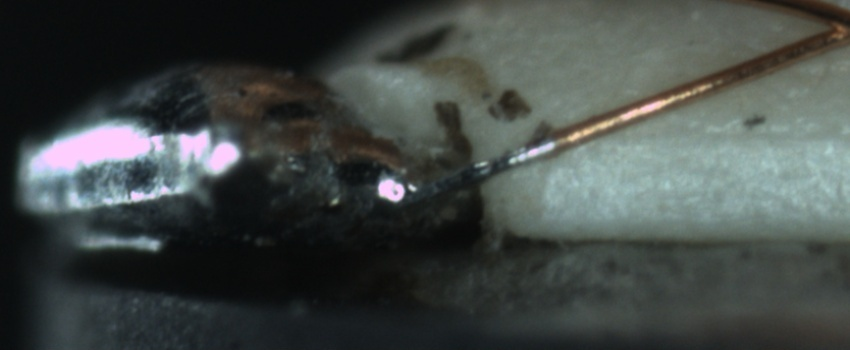CL: (795, 3, 850, 55)
DL: (608, 101, 847, 175)
TS: (414, 137, 562, 205)
